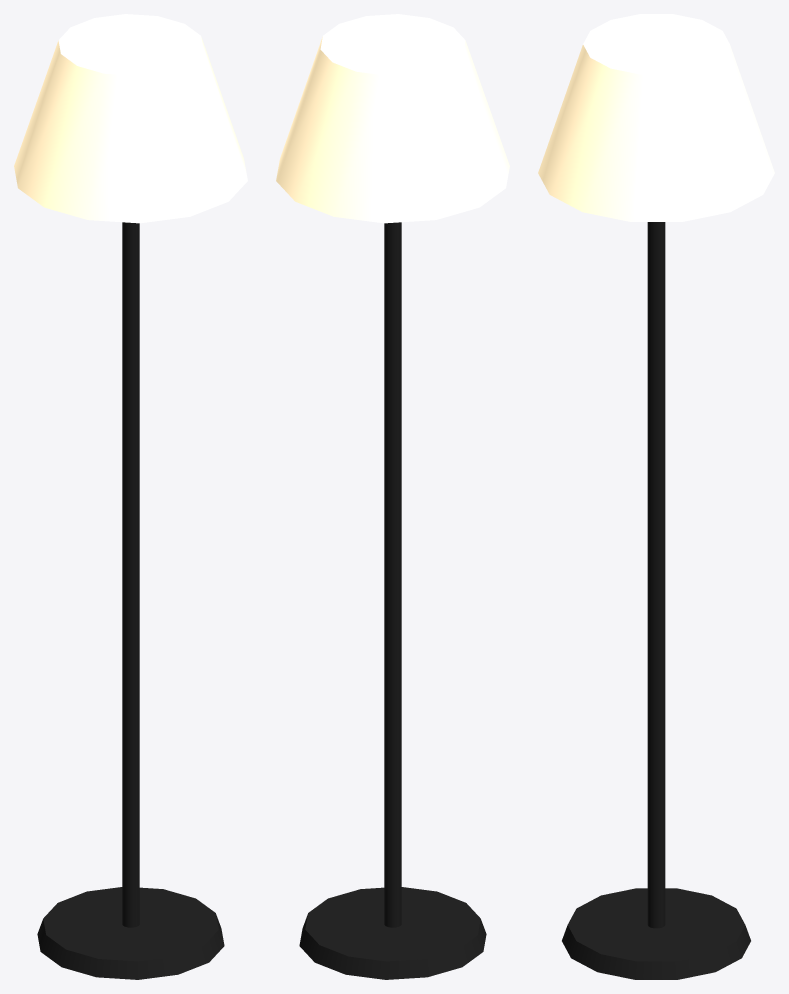
Rendered from table-lamp.glb.
3 renders of one model, left to right at view 1: azimuth 30°, elevation 25°; view 2: azimuth 150°, elevation 25°; view 3: azimuth 270°, elevation 25°, orthographic.
Parts seen in each view (by area): view 1: table-lamp; view 2: table-lamp; view 3: table-lamp.
Boxes of the visible parts, box(x1,y1,x2,y2) form: table-lamp: box(14, 14, 247, 979); table-lamp: box(276, 14, 509, 979); table-lamp: box(538, 14, 774, 979).
Bounding box in the file's own units: 0.39 × 1.67 × 0.4.
